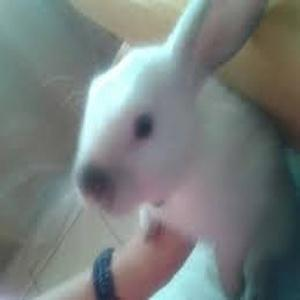rabbit: (72, 0, 298, 300)
